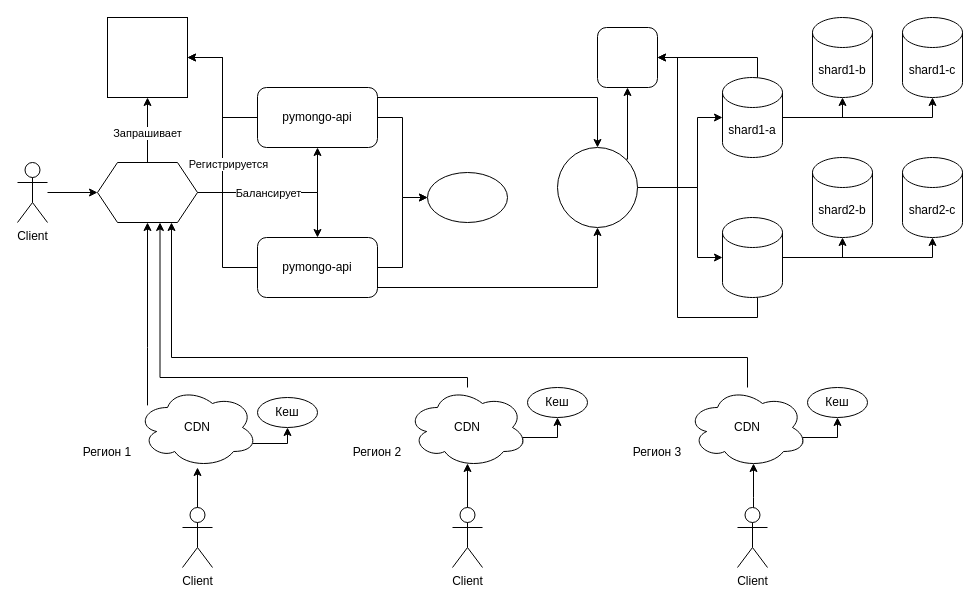
This 980x606 diagram has some shape labels left out. The shapes that lost their labels are listed below. From the top down, each one's centre as x and y in pixels, then its label:
At point 147,57: "Consul".
At point 627,57: "configSrv".
At point 147,192: "API Gateway".
At point 467,197: "Redis".
At point 597,187: "Mongos".
At point 752,257: "shard2-a".
